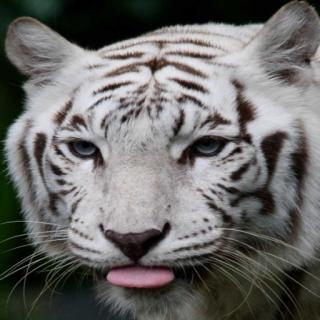Tiger: (0, 9, 320, 320)
